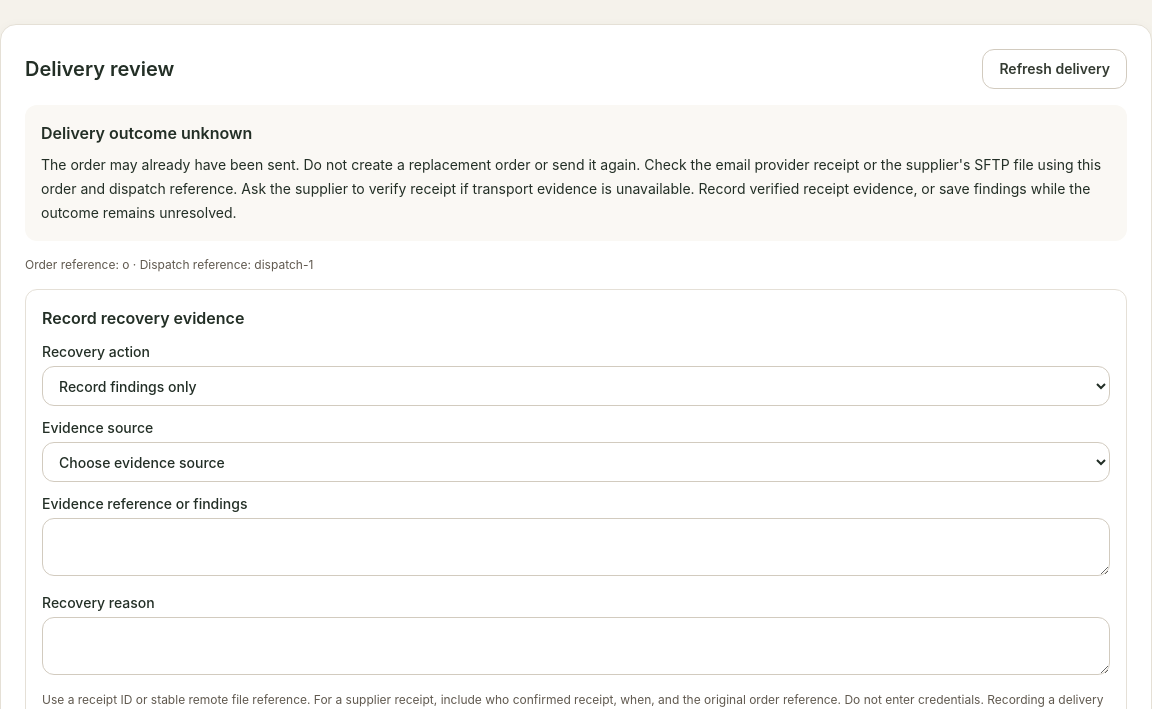
allows a positively verified supplier receipt while leaving commercial acceptance separate
Expected: the heading "Delivery outcome unknown" is shown, [41,123,252,143]
Select "Record verified delivery receipt" in the dropdown labelled "Recovery action": (576, 386) [42,366,1110,406]
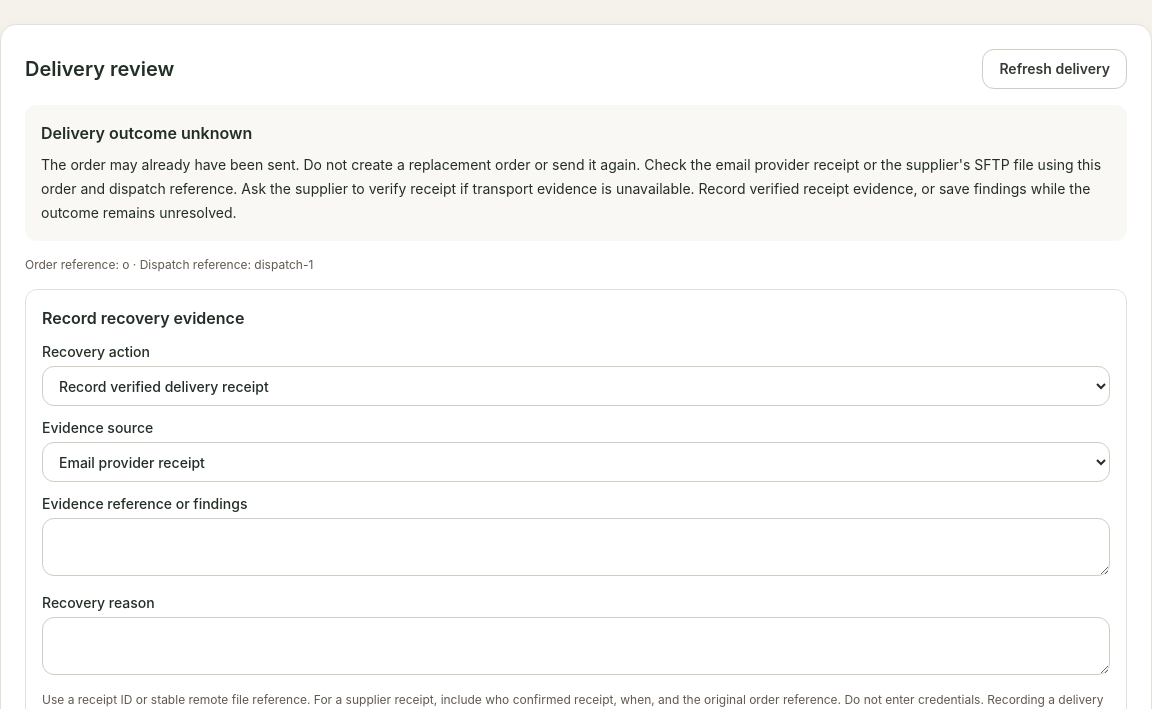
In the text box labelled "Evidence reference or findings": (576, 547) [42,518,1110,576], type "Provider ID 123"
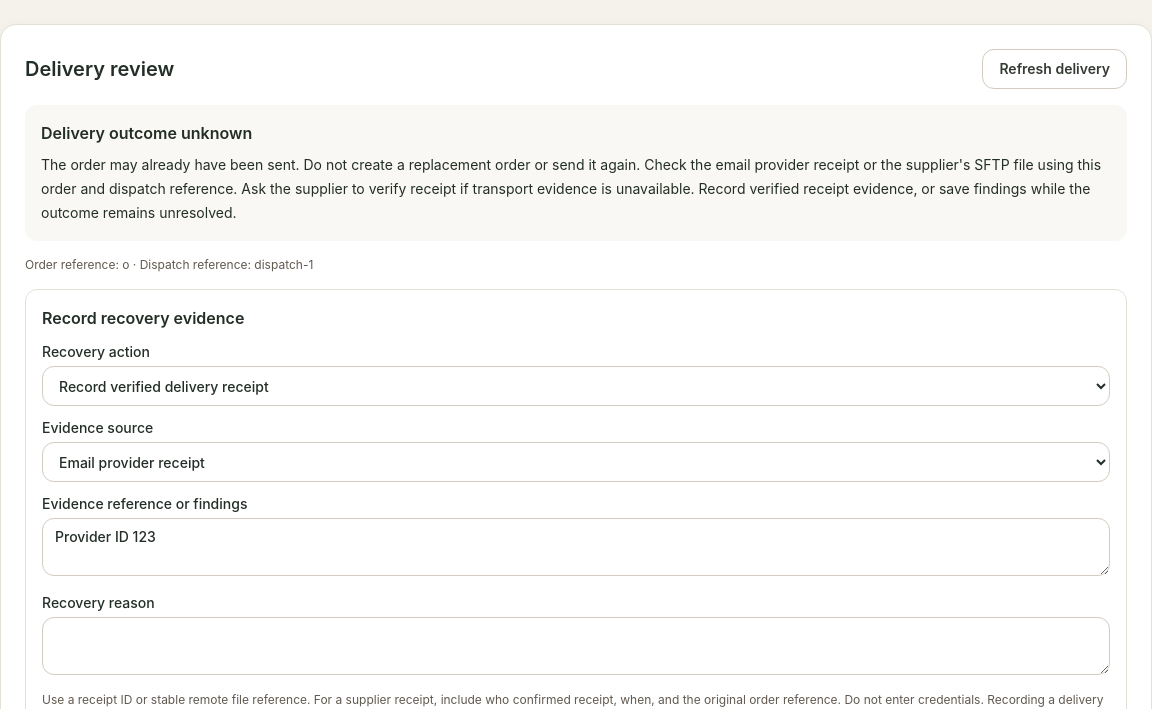
In the text box labelled "Recovery reason": (576, 646) [42,617,1110,675], type "Reconcile timed out send"
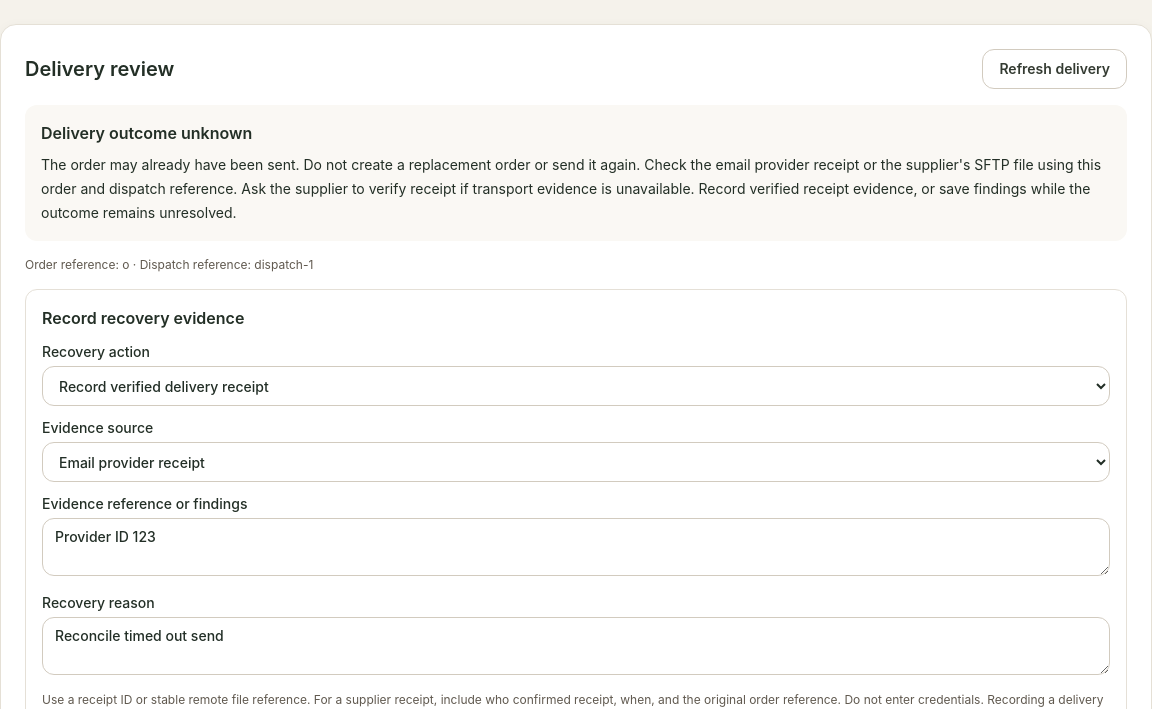
Select "Supplier contact" in the dropdown labelled "Evidence source": (576, 462) [42,442,1110,482]
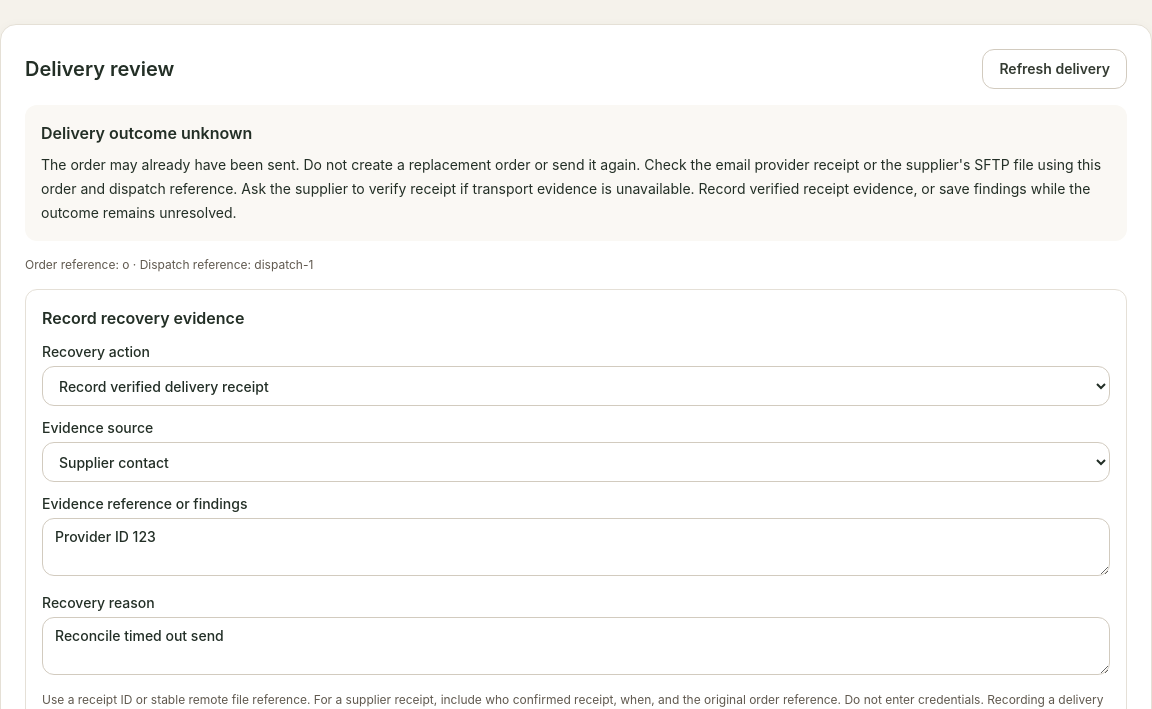
Replace the text in the text box labelled "Evidence reference or findings" with "Sam confirmed receipt of order o at 14:30": (576, 547) [42,518,1110,576]
(page scrolled)
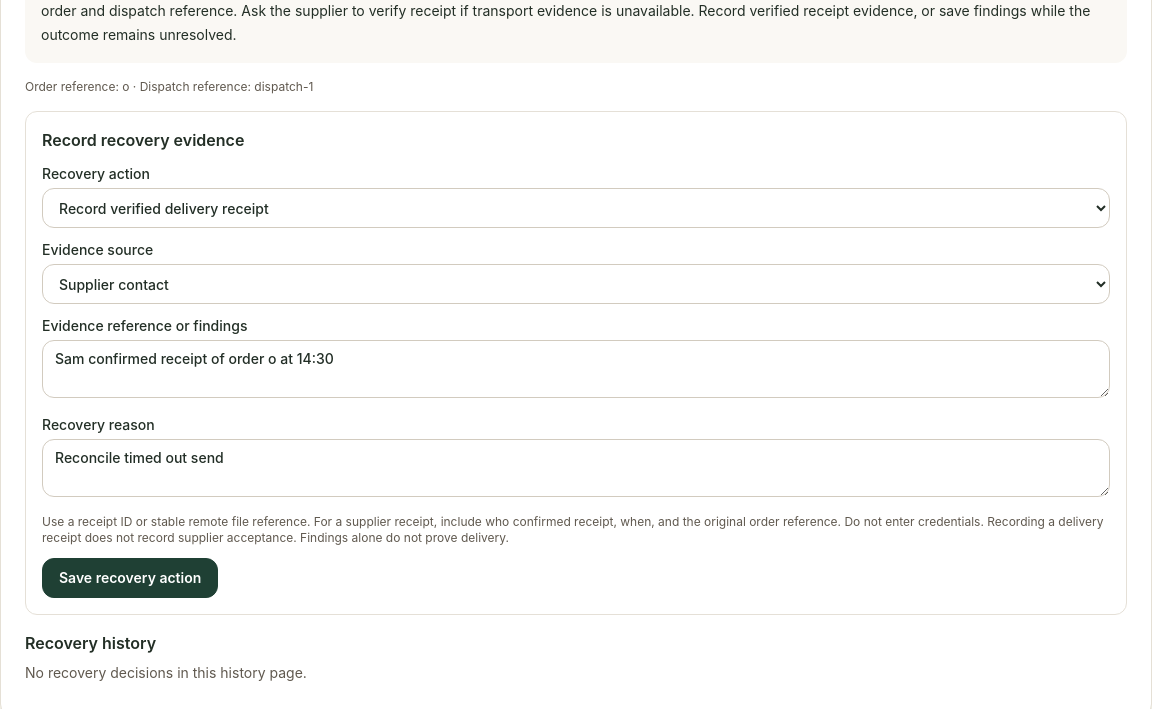
Click the button "Save recovery action": (130, 578) [42,558,218,598]
(page scrolled)
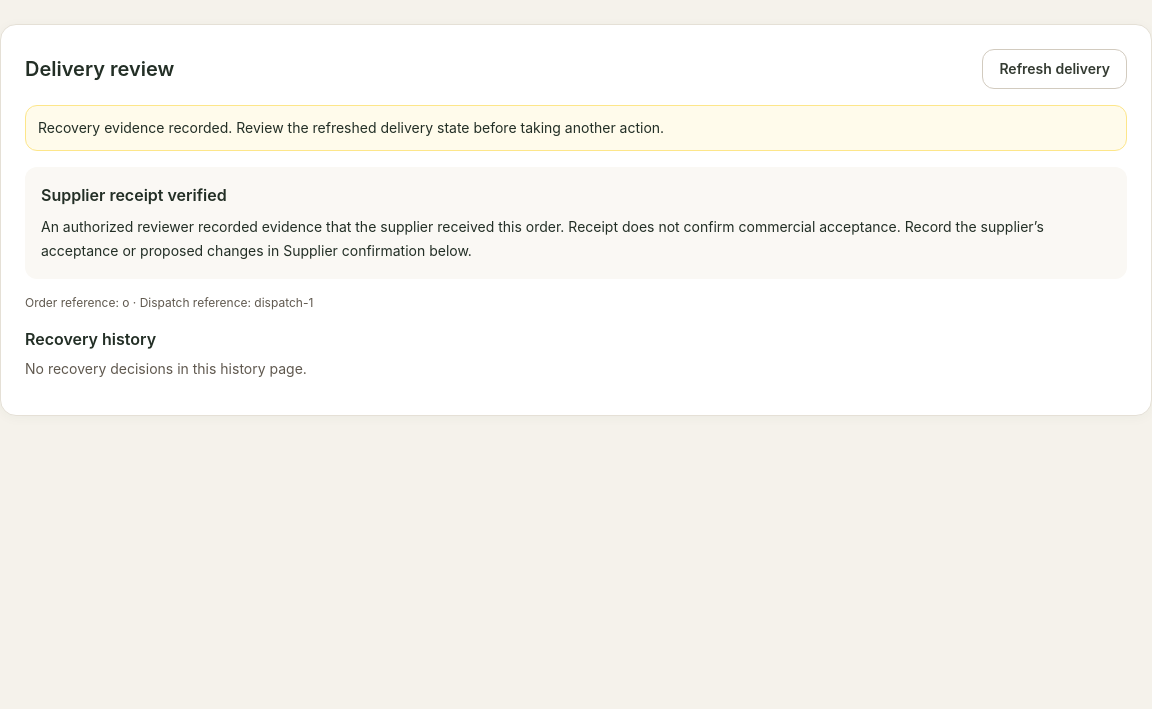
Now the heading "Supplier receipt verified" is shown, box [41,185,227,205]
Now the text "Receipt does not confirm commercial acceptance" is shown, box [41,218,1044,259]
